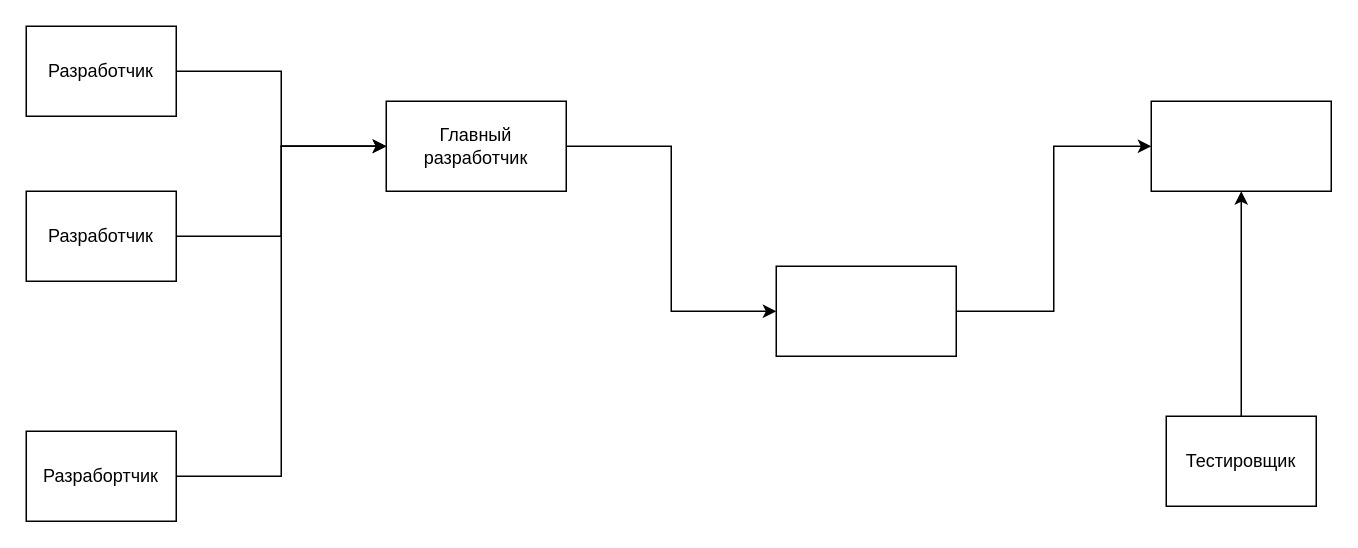
The diagram is 1358 pixels wide and 548 high, and some of its shapes have lost their labels. Here are the shapes that lost their labels. From the top down, the centre of each, then its label:
At [1240,145]: "Stable".
At [865,310]: "Development".
